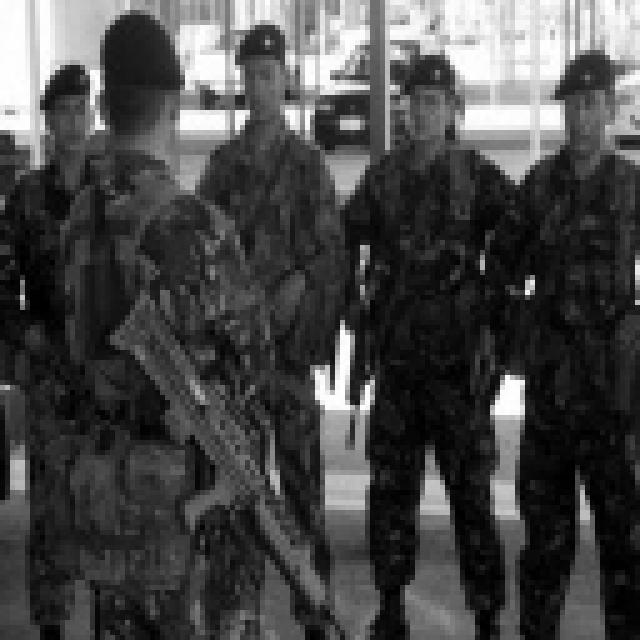Rifle: (86, 263, 374, 640)
